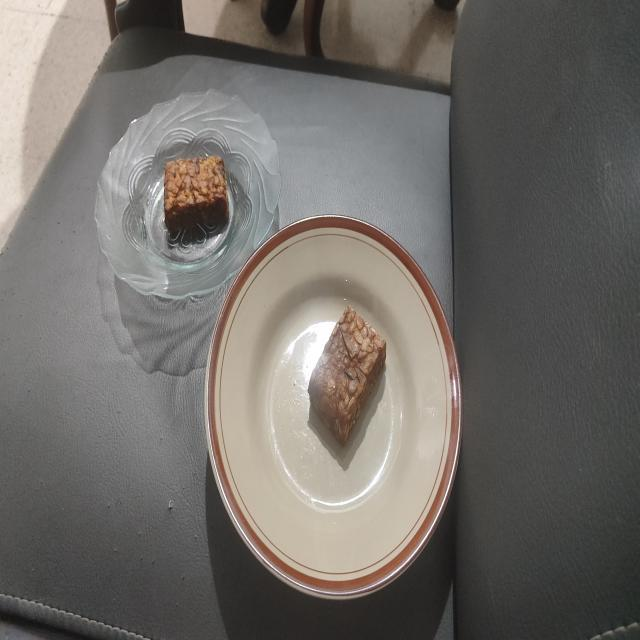tempe_goreng: (308, 306, 386, 445), (164, 156, 229, 239)
